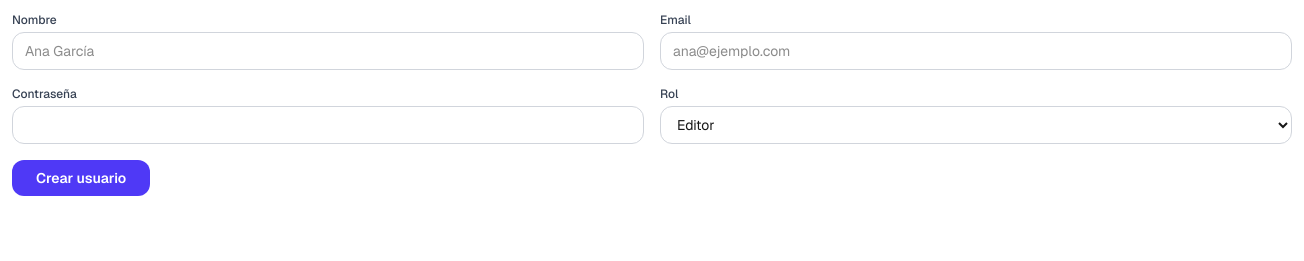
Test: CreateUserForm › shows an error message when the API returns a non-ok response
In the field with placeholder "Ana García": (328,51) [12, 32, 644, 70], type "Juan"
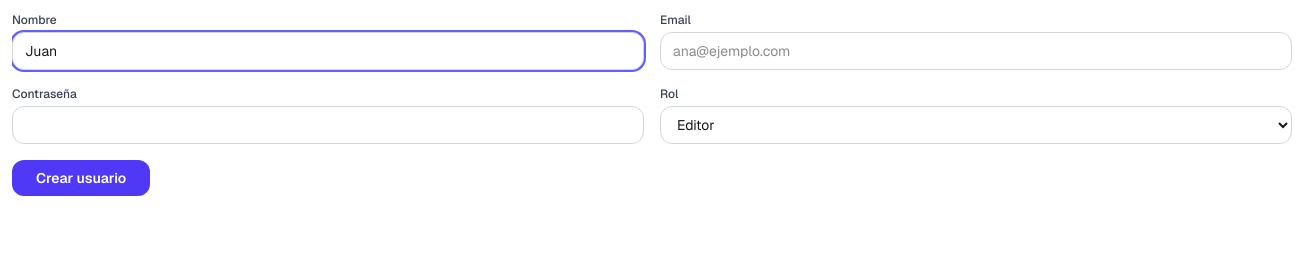
In the field with placeholder "ana@ejemplo.com": (976,51) [660, 32, 1292, 70], type "juan@test.com"
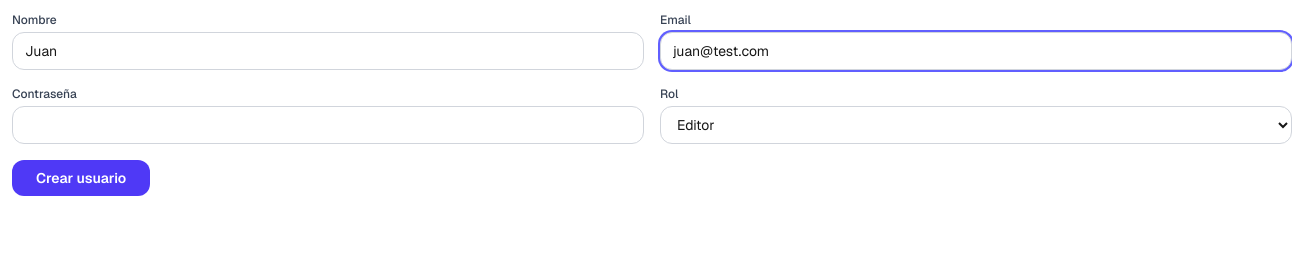
In the password field named "password": (328,125) [12, 106, 644, 144], type "secret123"
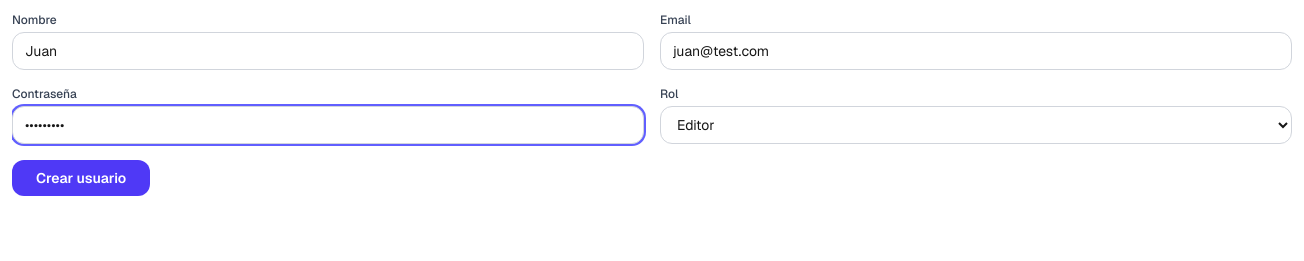
Click the button "Crear usuario": (81,178) [12, 160, 150, 196]
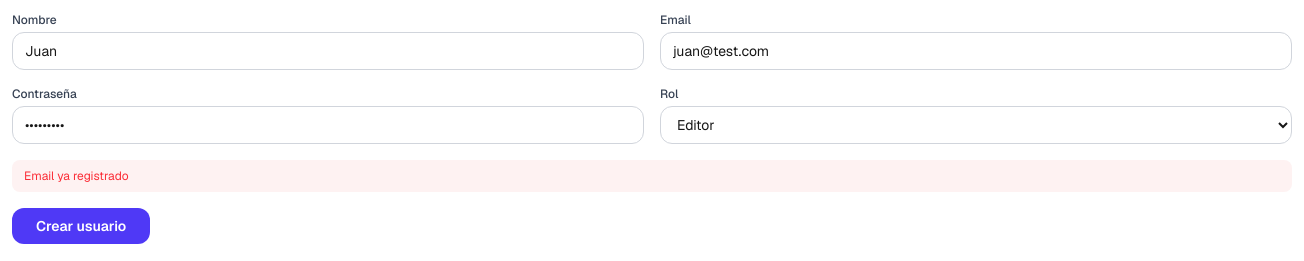
Now the text "Email ya registrado" is shown, box [12, 160, 1292, 192]
